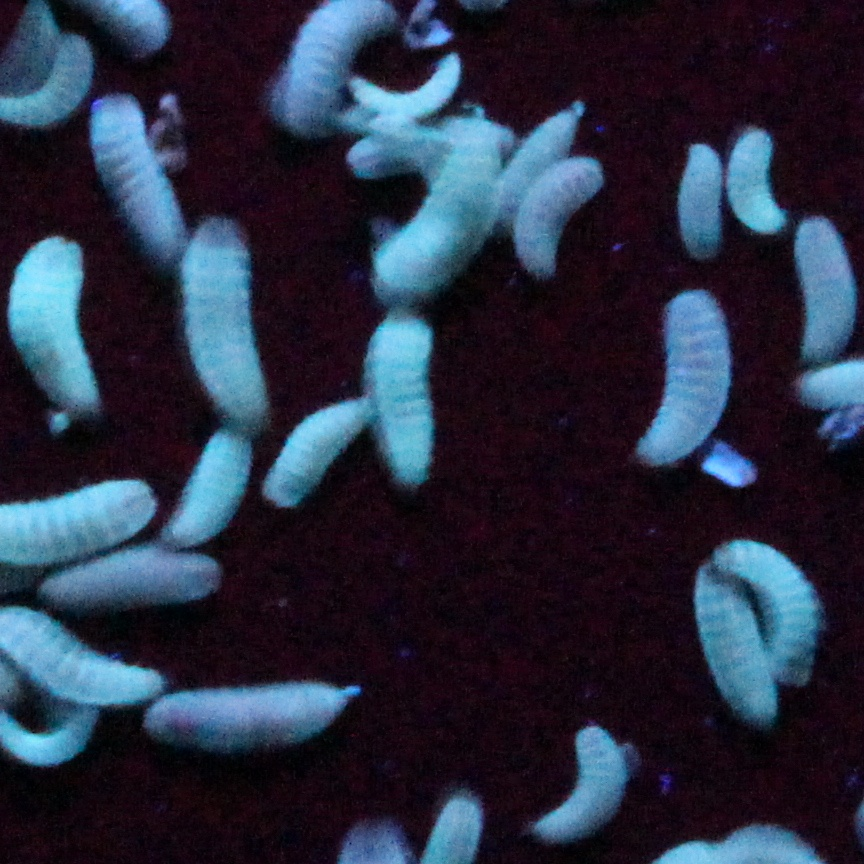larve: (383, 133, 496, 294), (184, 219, 272, 421), (642, 284, 731, 467), (717, 530, 821, 683), (686, 560, 780, 728), (151, 681, 371, 748), (6, 236, 94, 402), (89, 94, 180, 250), (532, 711, 629, 843), (501, 97, 590, 225), (369, 308, 435, 479), (273, 391, 365, 504), (512, 157, 600, 274), (169, 430, 253, 546), (793, 212, 853, 361), (47, 553, 230, 599), (348, 57, 463, 115), (731, 125, 784, 233), (679, 140, 724, 254)
